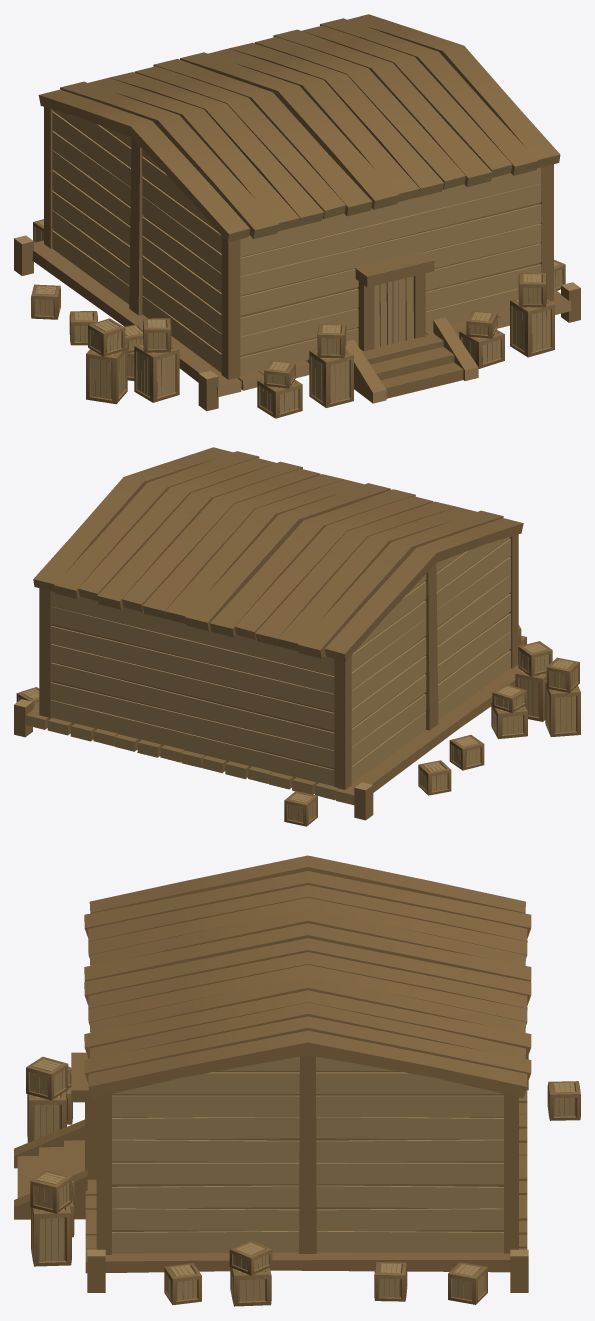
File: quaternius-real-time-strategy-storage-first-age-leve-3.glb
3 views of the same model, one above another, from view 1: azimuth 30°, elevation 25°; view 2: azimuth 150°, elevation 25°; view 3: azimuth 270°, elevation 25° (orthographic). The views are drawn at different scales.
Parts seen in each view (by area): view 1: Storage_FirstAge_Leve3; view 2: Storage_FirstAge_Leve3; view 3: Storage_FirstAge_Leve3.
Boxes of the visible parts, bbox=[...] form: Storage_FirstAge_Leve3: bbox=[14, 14, 580, 418]; Storage_FirstAge_Leve3: bbox=[14, 447, 580, 826]; Storage_FirstAge_Leve3: bbox=[14, 855, 580, 1306].
Bounding box in the file's own units: 1.79 × 0.7612 × 1.62.
